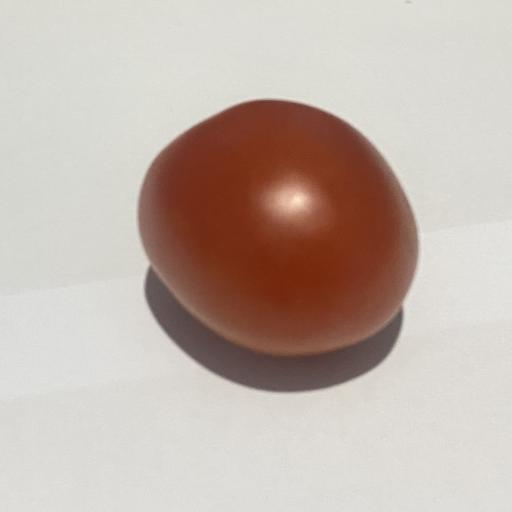ripe: (139, 100, 418, 355)
